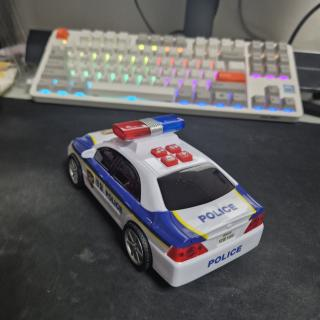Police_car: (67, 114, 265, 286)
